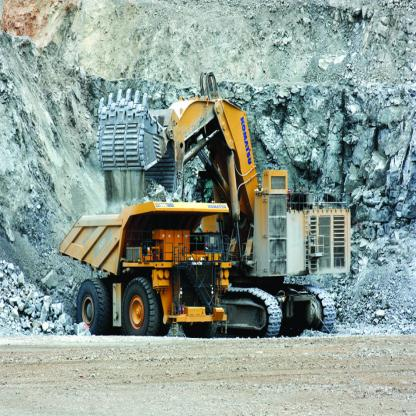dump_truck: (59, 195, 230, 342)
excavator: (97, 76, 353, 348)
